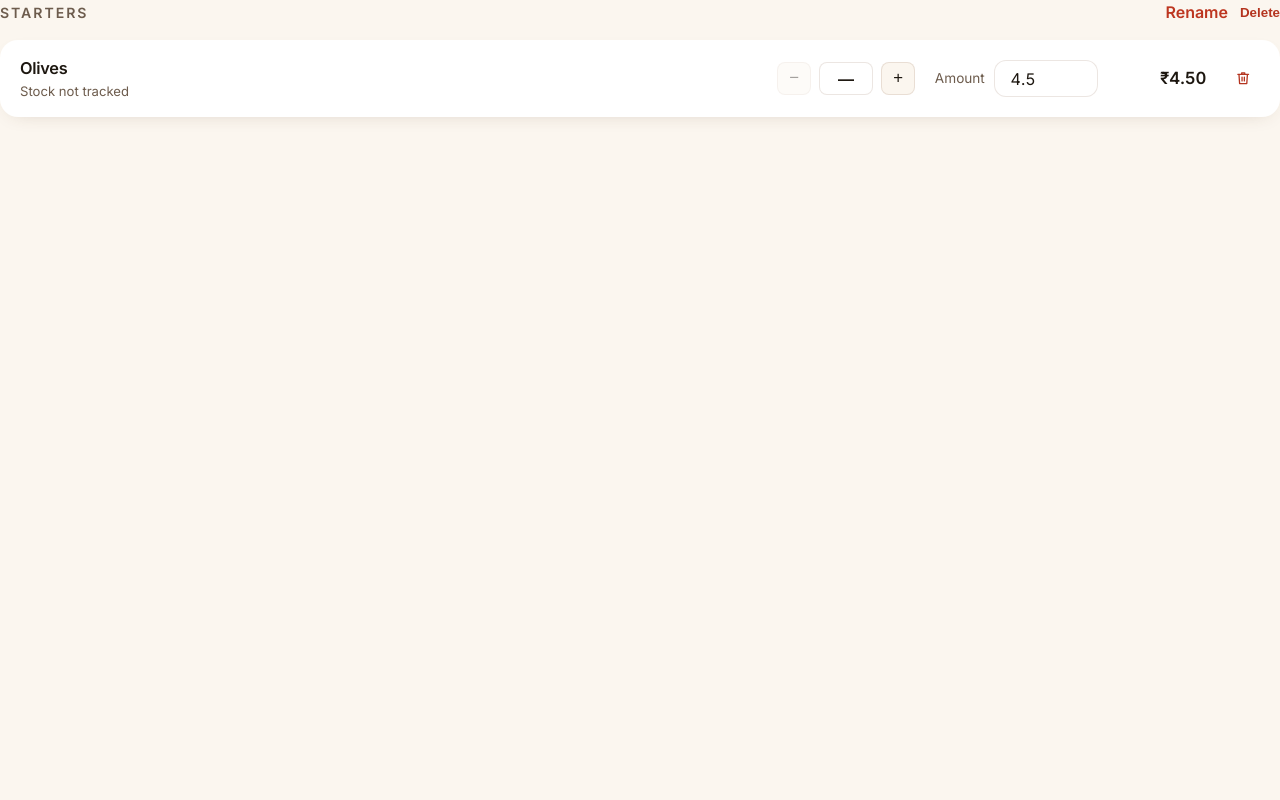
Test: CategoryPanel deletion › surfaces the API message when the category still holds items
Click the button with aria-label "Delete category Starters" at (1260,12), box x1=1240 y1=0 x2=1279 y2=24
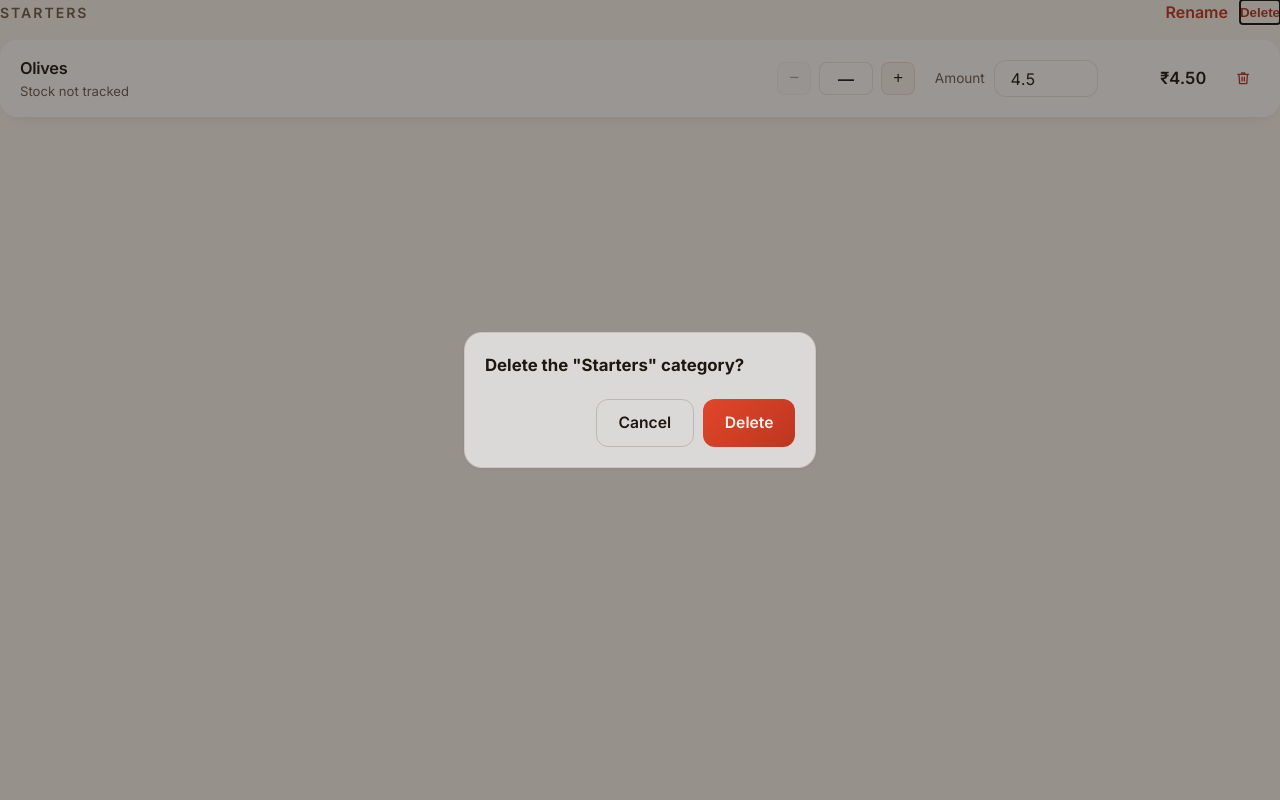
Click the button "Delete" at (749,423), box x1=703 y1=398 x2=795 y2=447
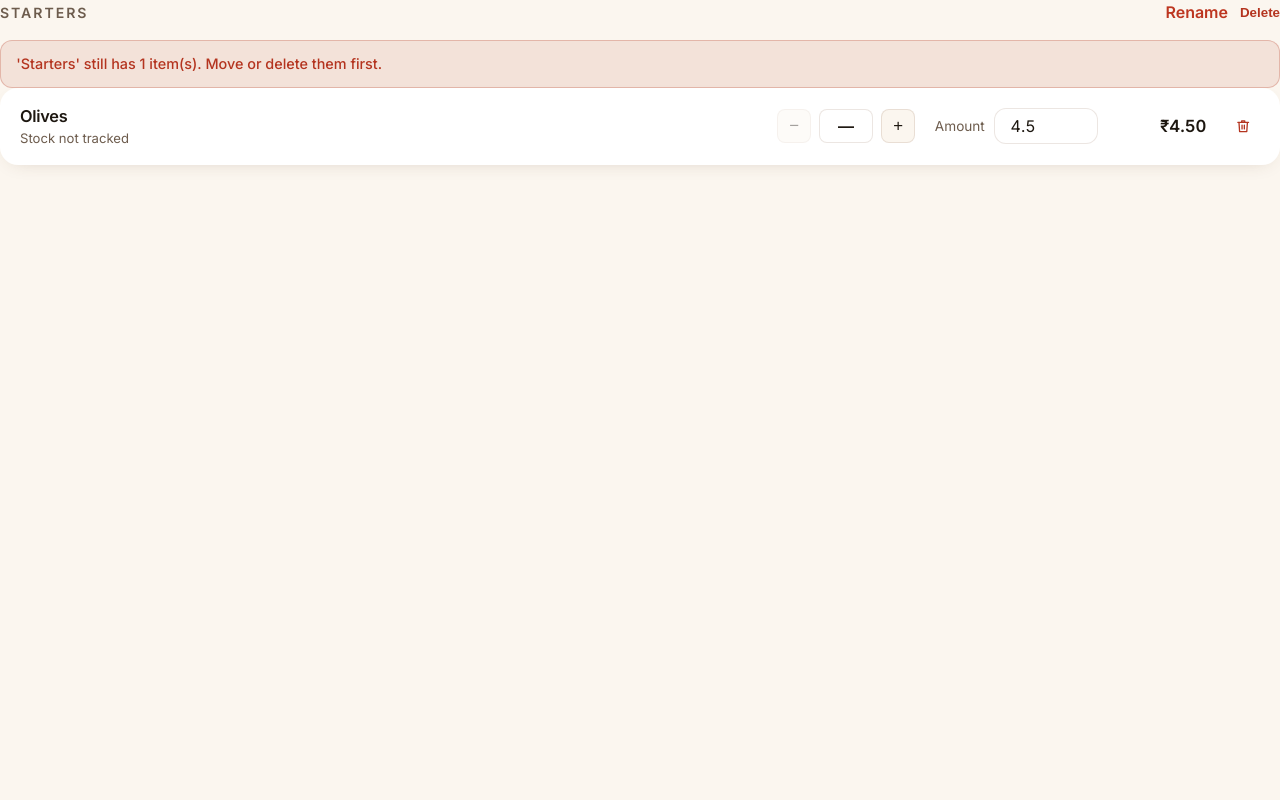
Check: the heading "Starters" is shown, box x1=0 y1=6 x2=88 y2=21
Check: the text "'Starters' still has 1 item(s). Move or delete them first." is shown, box x1=0 y1=40 x2=1279 y2=88
